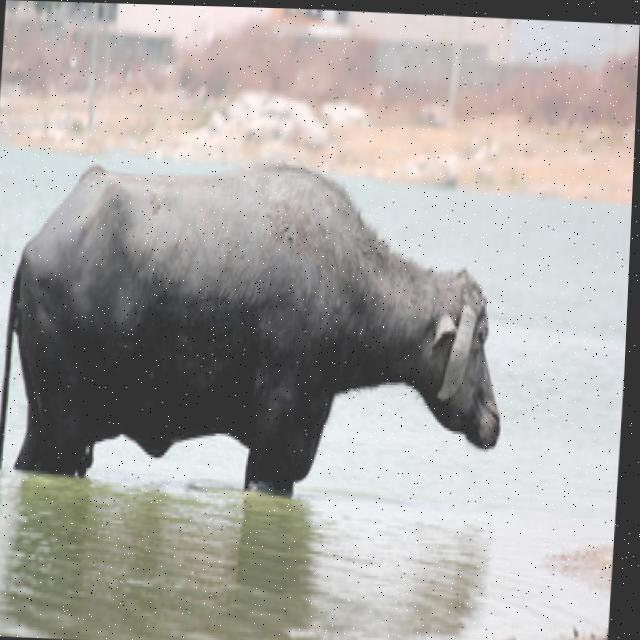Buffalo: (0, 143, 519, 511)
